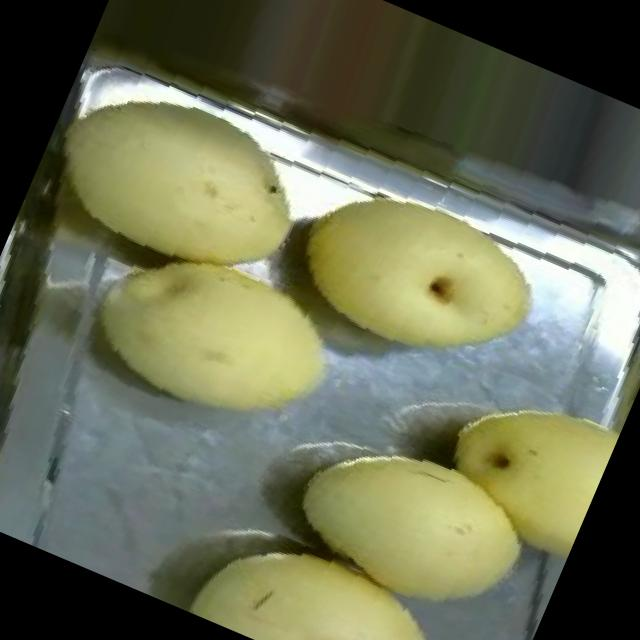Fruit: (13, 48, 339, 331), (56, 195, 378, 479), (263, 159, 567, 416), (258, 394, 563, 640), (408, 351, 628, 583), (170, 493, 475, 640)
